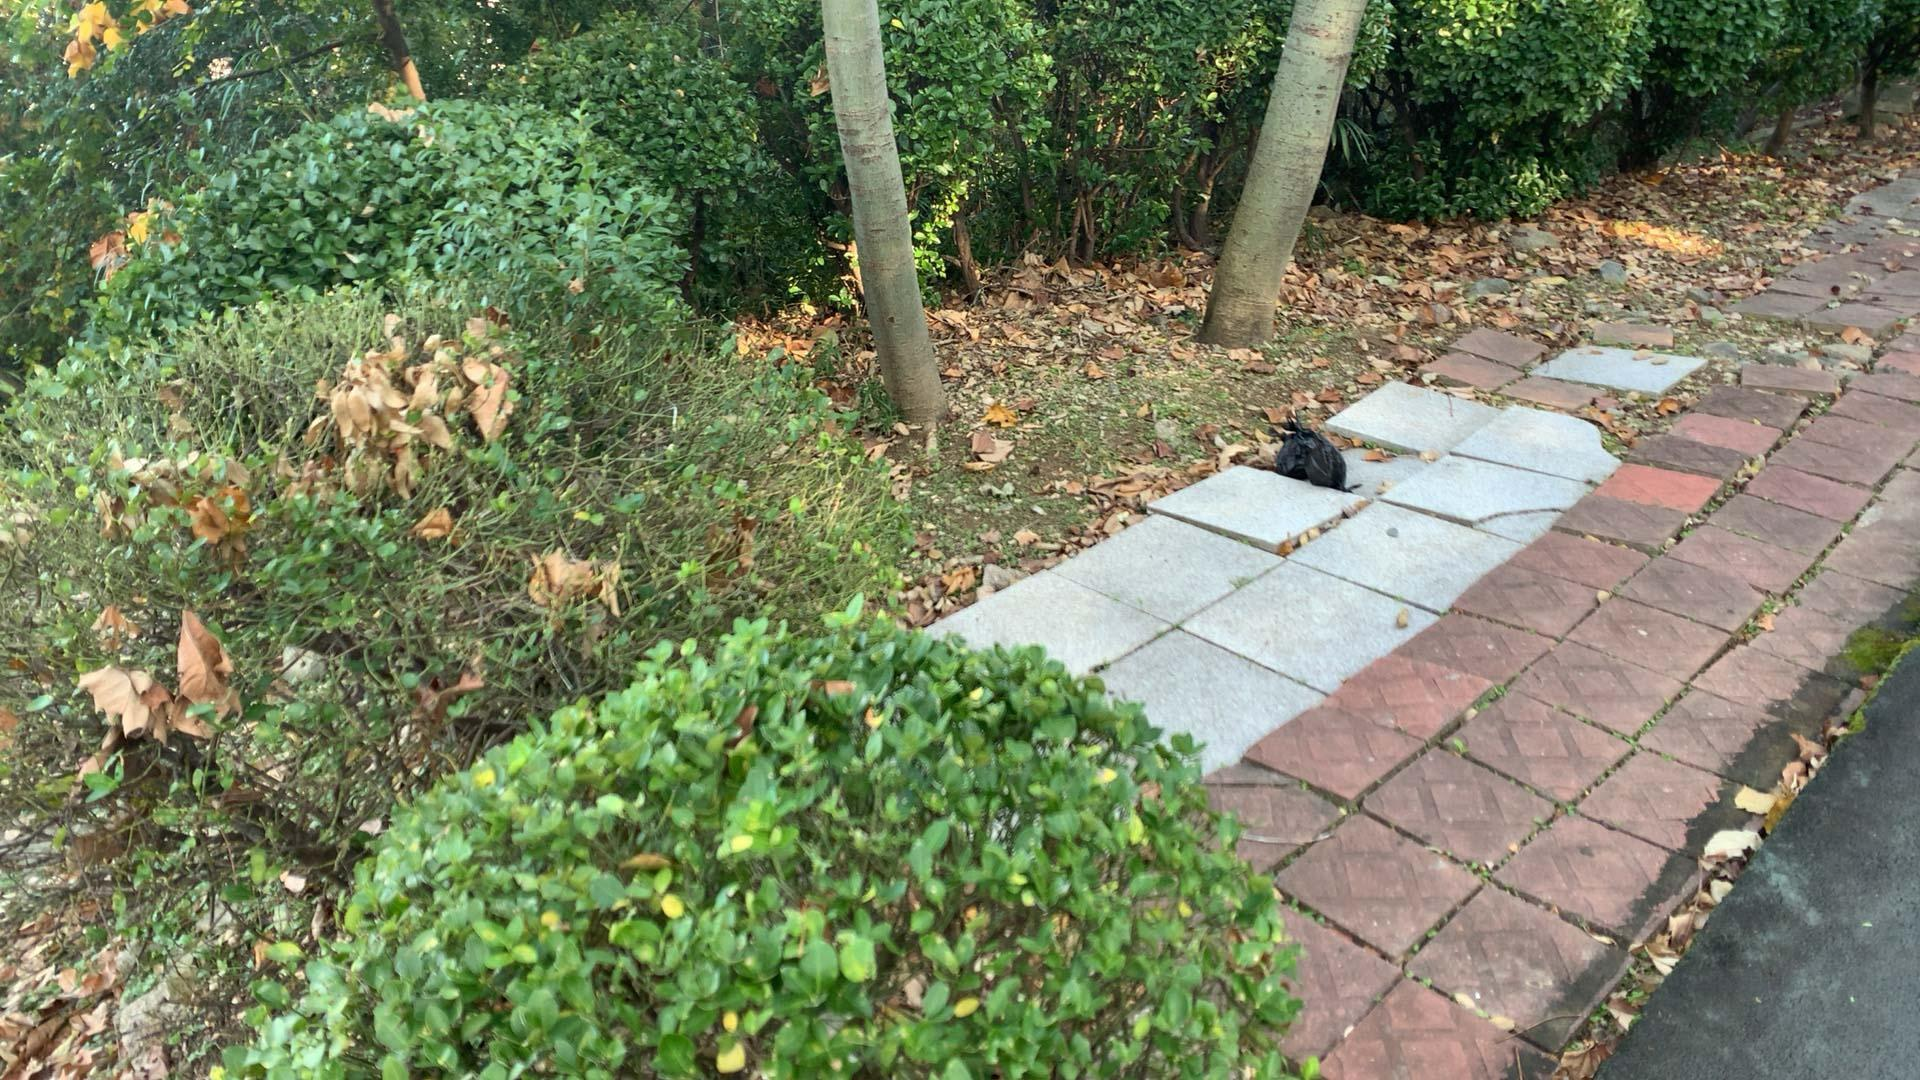black_bag: (1266, 411, 1353, 496)
